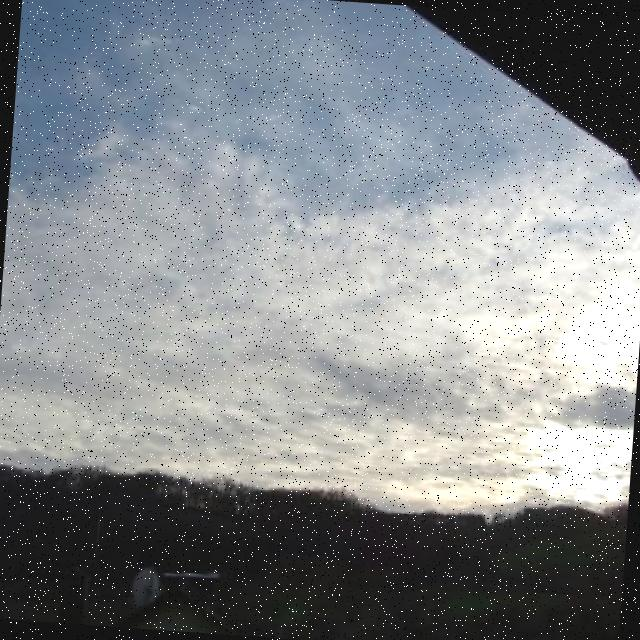Ac: (1, 84, 594, 444)
